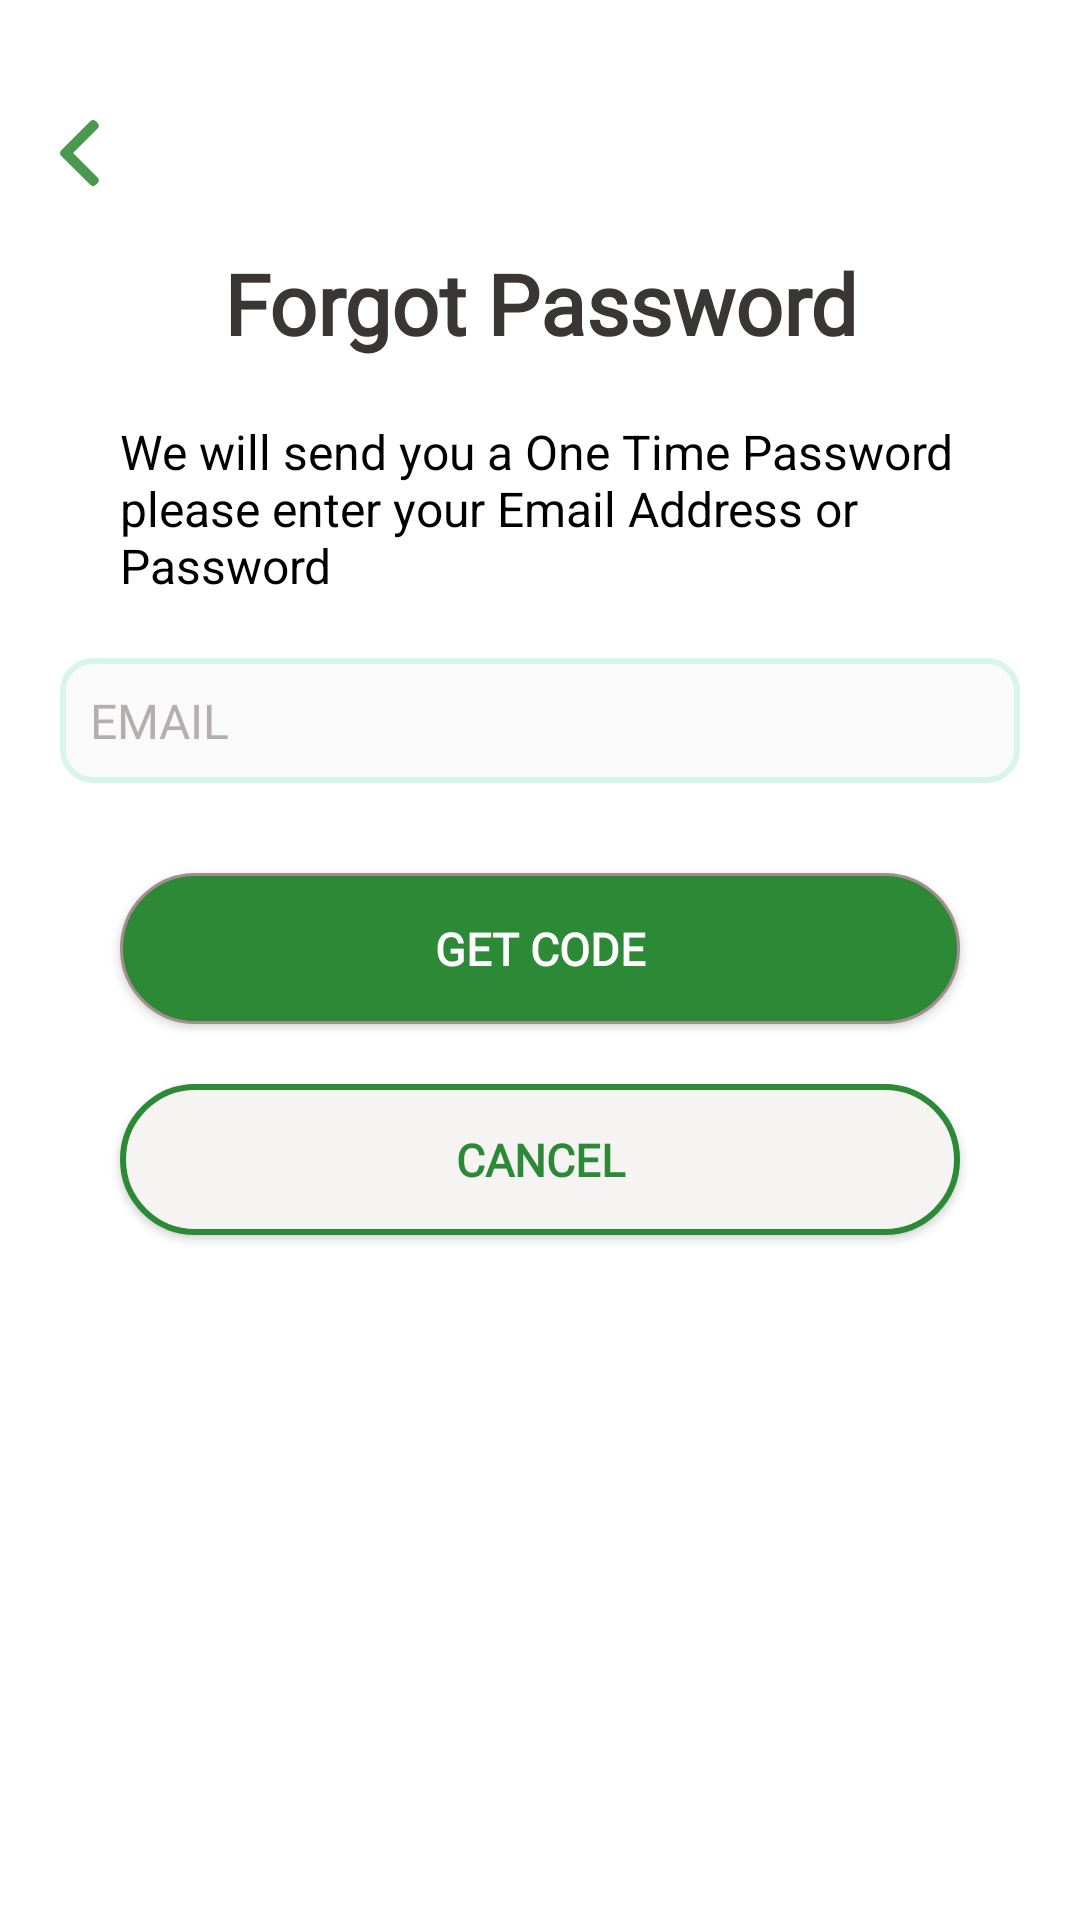

Icon click points for this 1080 × 1920 phone screenshot, format (x=x, y=y):
arrow: (x=79, y=153)
